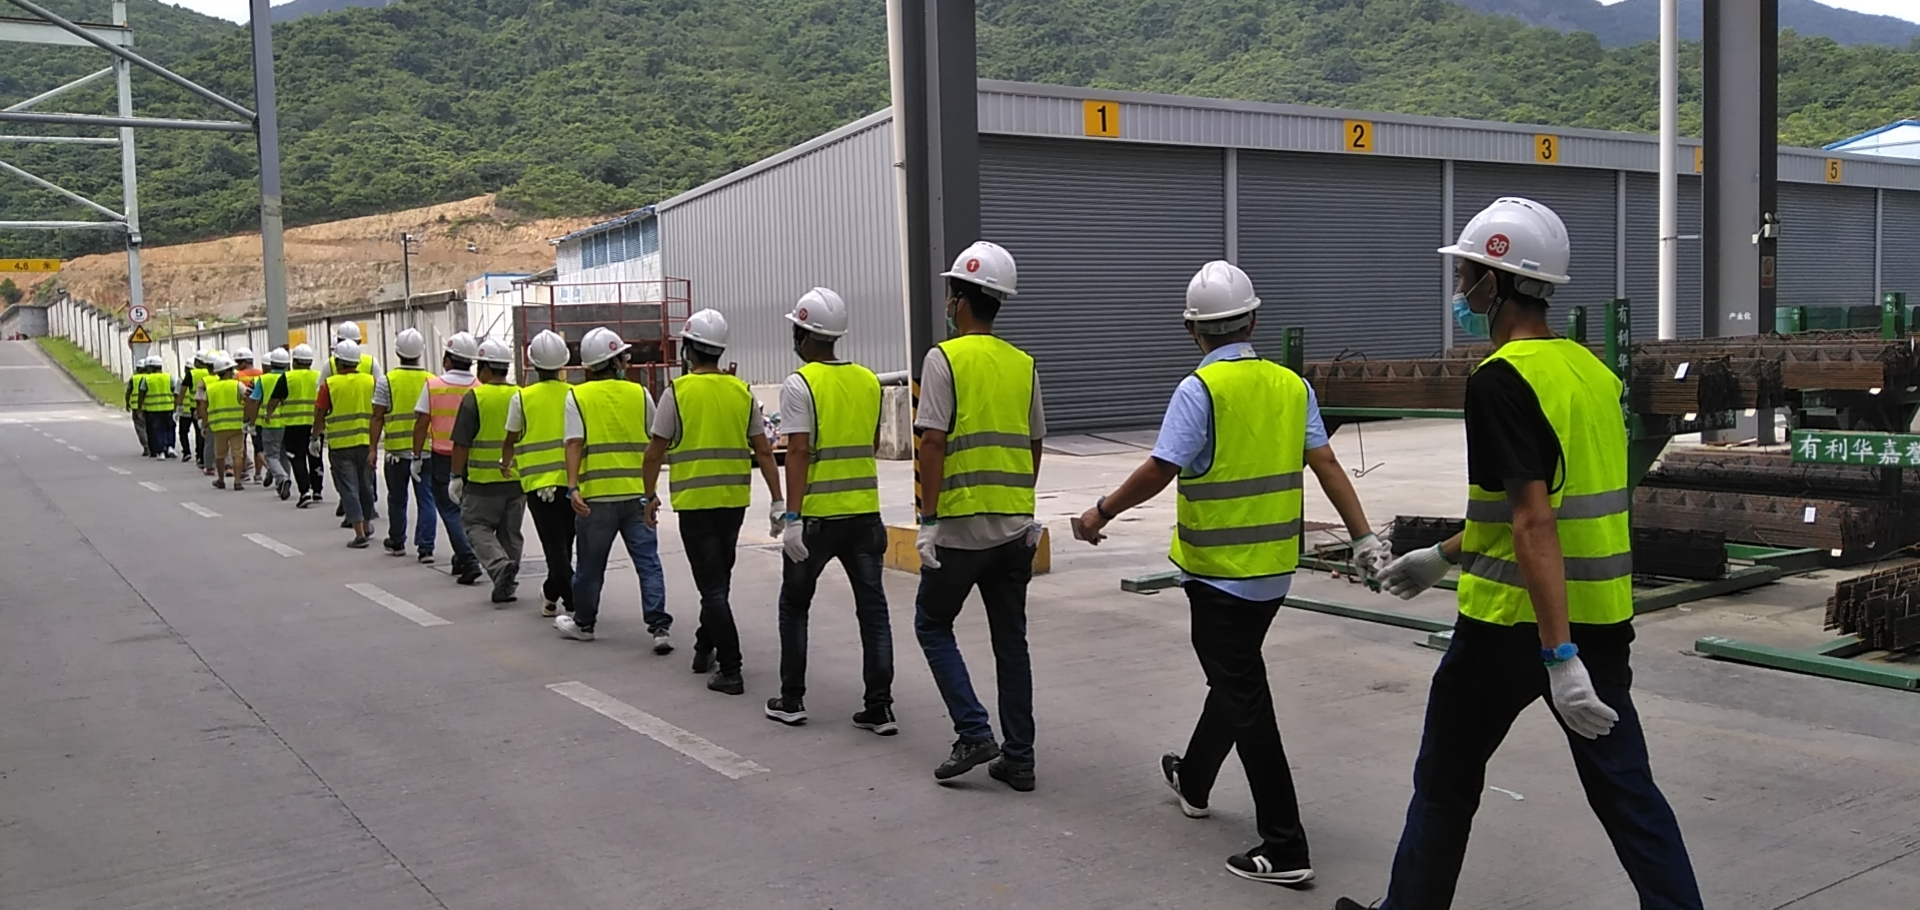safetyhat: (1393, 179, 1686, 874), (1119, 231, 1371, 872), (890, 216, 1079, 797), (758, 267, 899, 739), (650, 298, 754, 697)
